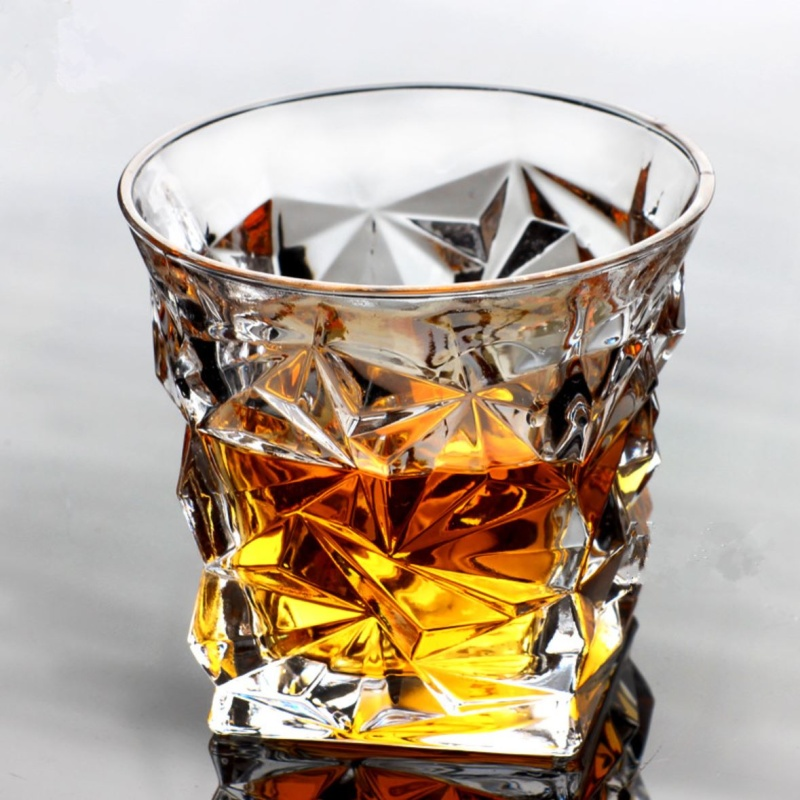whiskey: (133, 78, 719, 766)
